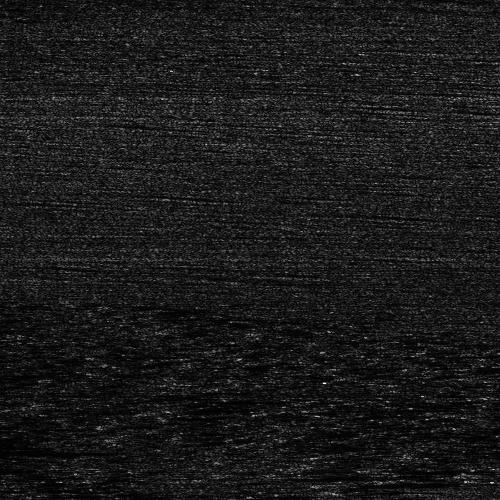object: (308, 478, 371, 487)
shadow: (340, 478, 467, 487)
